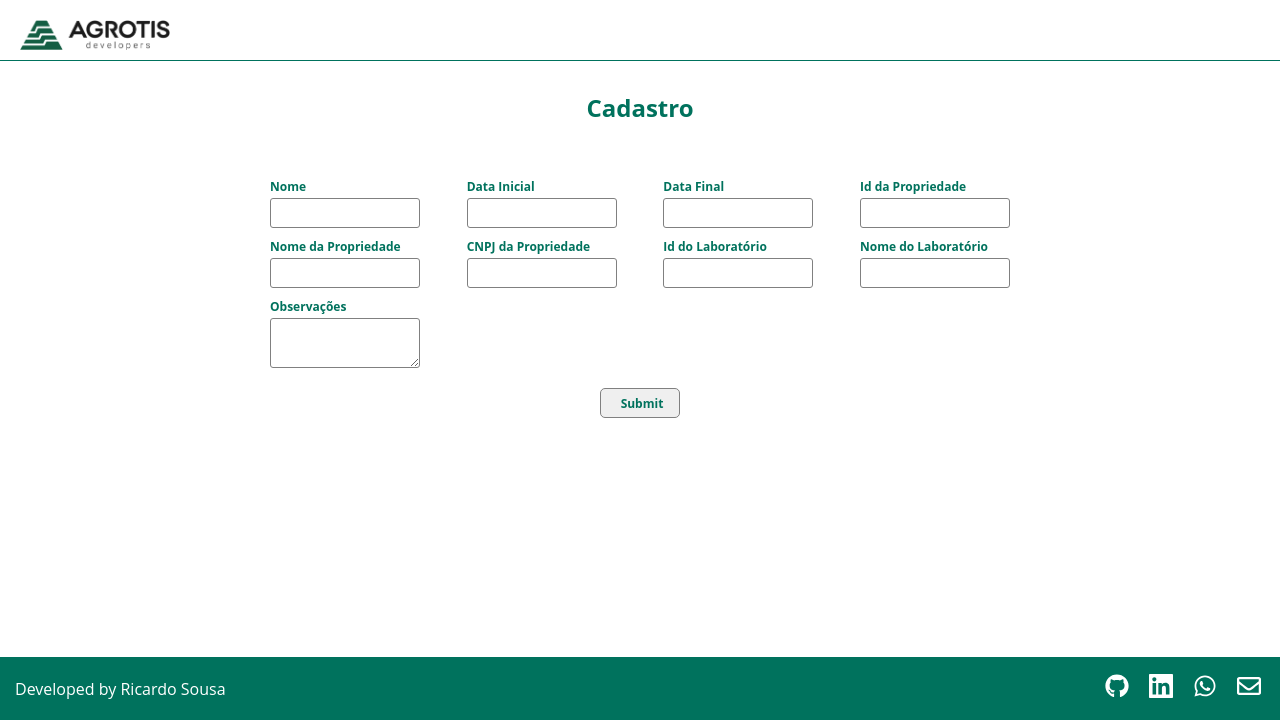
it: Testa página do formulário de cadastro › Verifica se as máscaras de CNPJ e Data formatam os dados corretamente
The image size is (1280, 720).
Type "12345678901234" into the field named "cnpj" at (542, 273), box [467, 258, 617, 288]
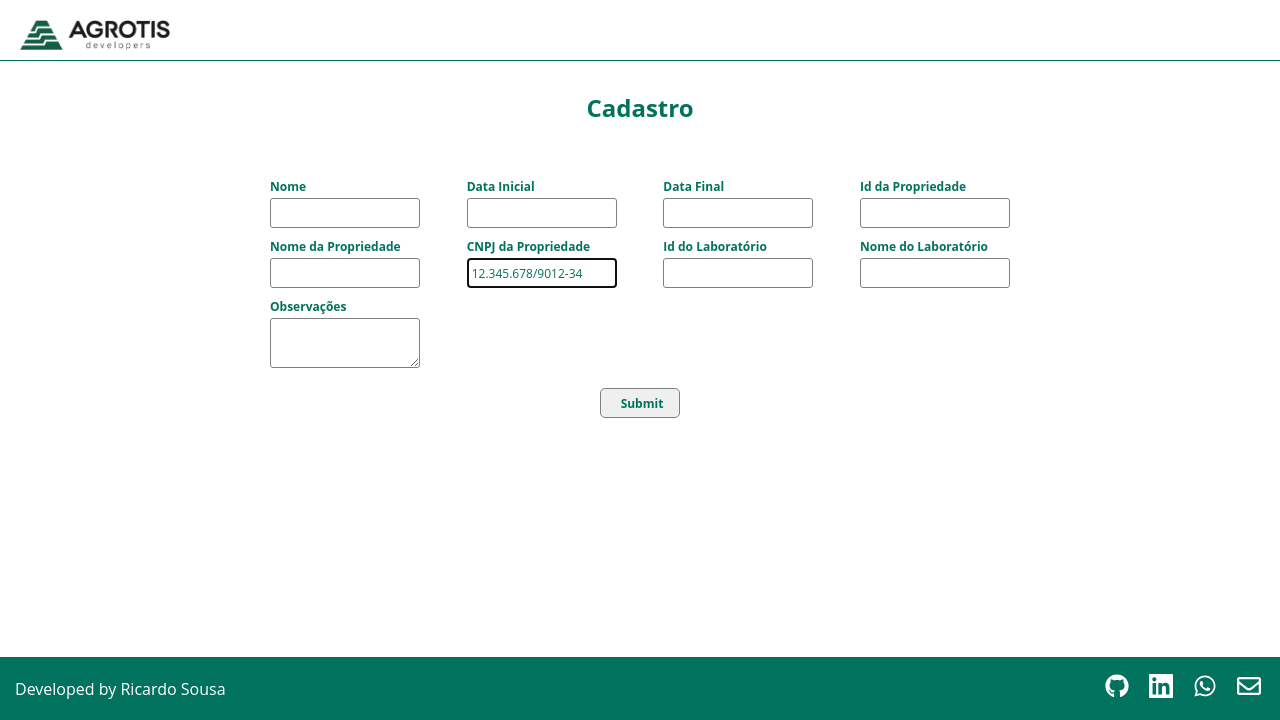
Expected: the field named "cnpj" holds "12.345.678/9012-34", [467, 258, 617, 288]
Type "12012020" into the field named "dataInicial" at (542, 213), box [467, 198, 617, 228]
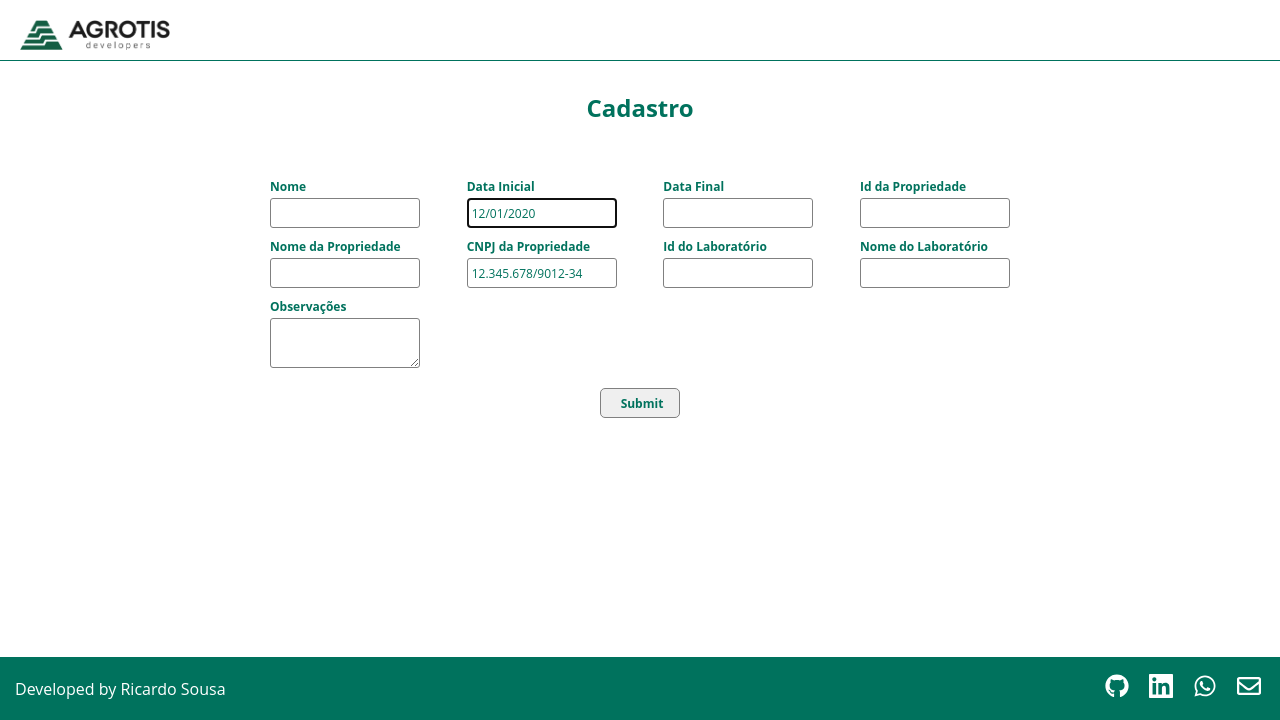
Expected: the field named "dataInicial" holds "12/01/2020", [467, 198, 617, 228]
